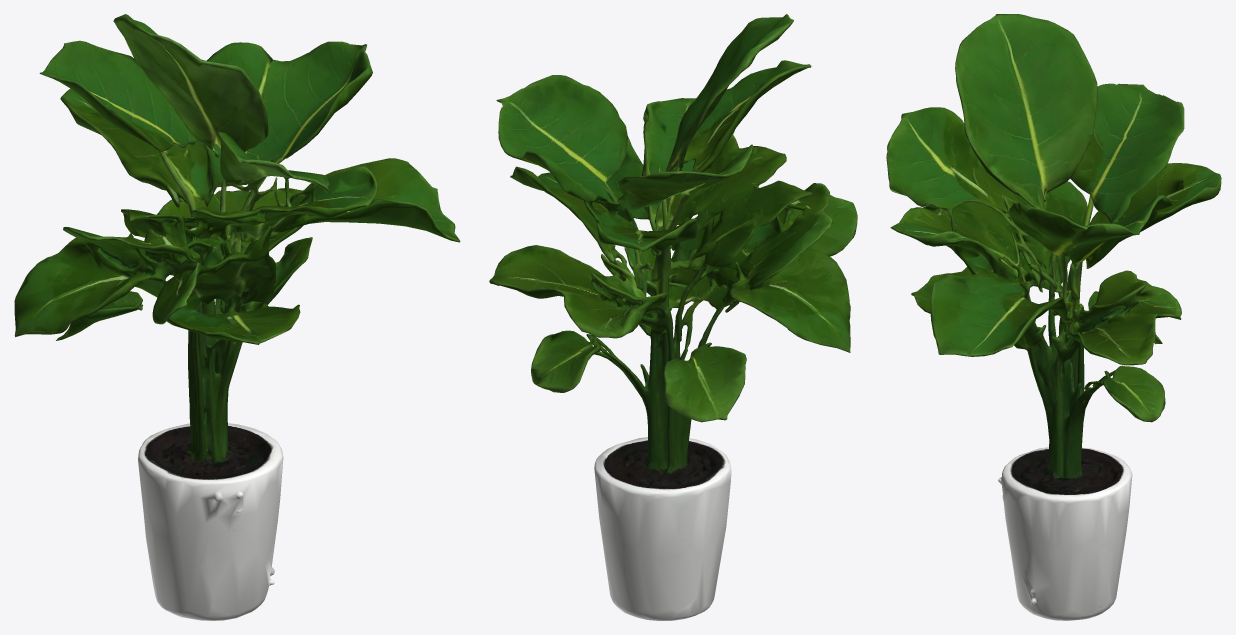
File: plant.glb
3 views of the same model, side by side, from view 1: azimuth 30°, elevation 25°; view 2: azimuth 150°, elevation 25°; view 3: azimuth 270°, elevation 25° (orthographic). The views are drawn at different scales.
Size of the model in its own units: 1.33 by 2.01 by 1.12.
Materials: 1 (1 with a texture image).
